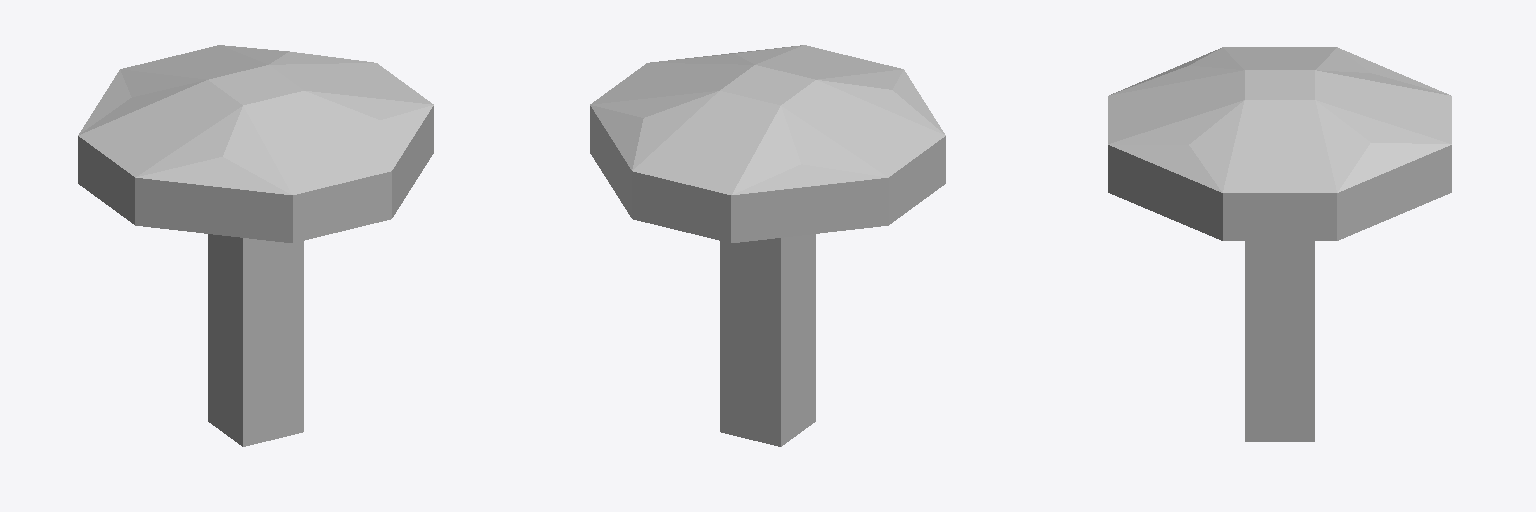
Rendered from big_mushroom.obj.
The picture shows the model from 3 angles: view 1: azimuth 30°, elevation 25°; view 2: azimuth 150°, elevation 25°; view 3: azimuth 270°, elevation 25°; orthographic projection.
Visible parts, largest first — view 1: Cube_Cube.007; view 2: Cube_Cube.007; view 3: Cube_Cube.007.
Part boxes in pixels (x1,y1,x2,y2): Cube_Cube.007: (78,45,433,446); Cube_Cube.007: (590,45,945,446); Cube_Cube.007: (1108,47,1451,441).
Bounding box in the file's own units: 1.68 × 1.84 × 1.68.